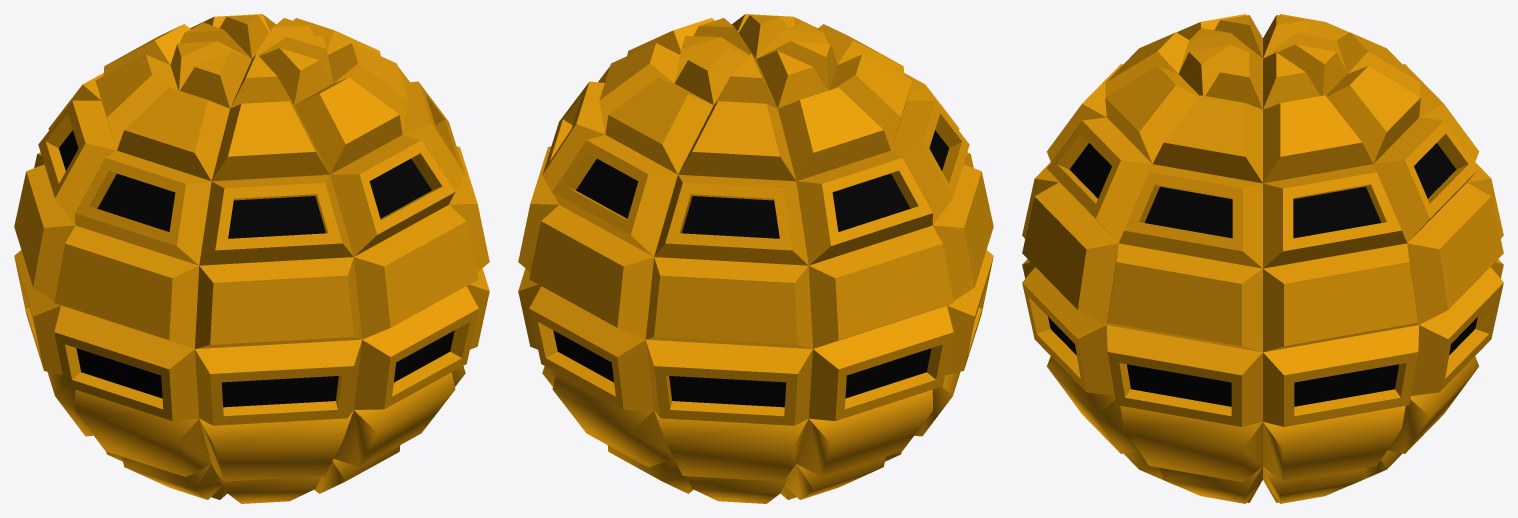
3 views of the same model, side by side, from view 1: azimuth 30°, elevation 25°; view 2: azimuth 150°, elevation 25°; view 3: azimuth 270°, elevation 25° (orthographic).
Parts seen in each view (by area): view 1: pSphere2; view 2: pSphere2; view 3: pSphere2.
Part boxes in pixels (box(x1,y1,x2,y2)): pSphere2: box(14, 14, 489, 503); pSphere2: box(518, 14, 993, 503); pSphere2: box(1022, 14, 1503, 503).
Size of the model in its own units: 2.18 by 2.2 by 2.18.
